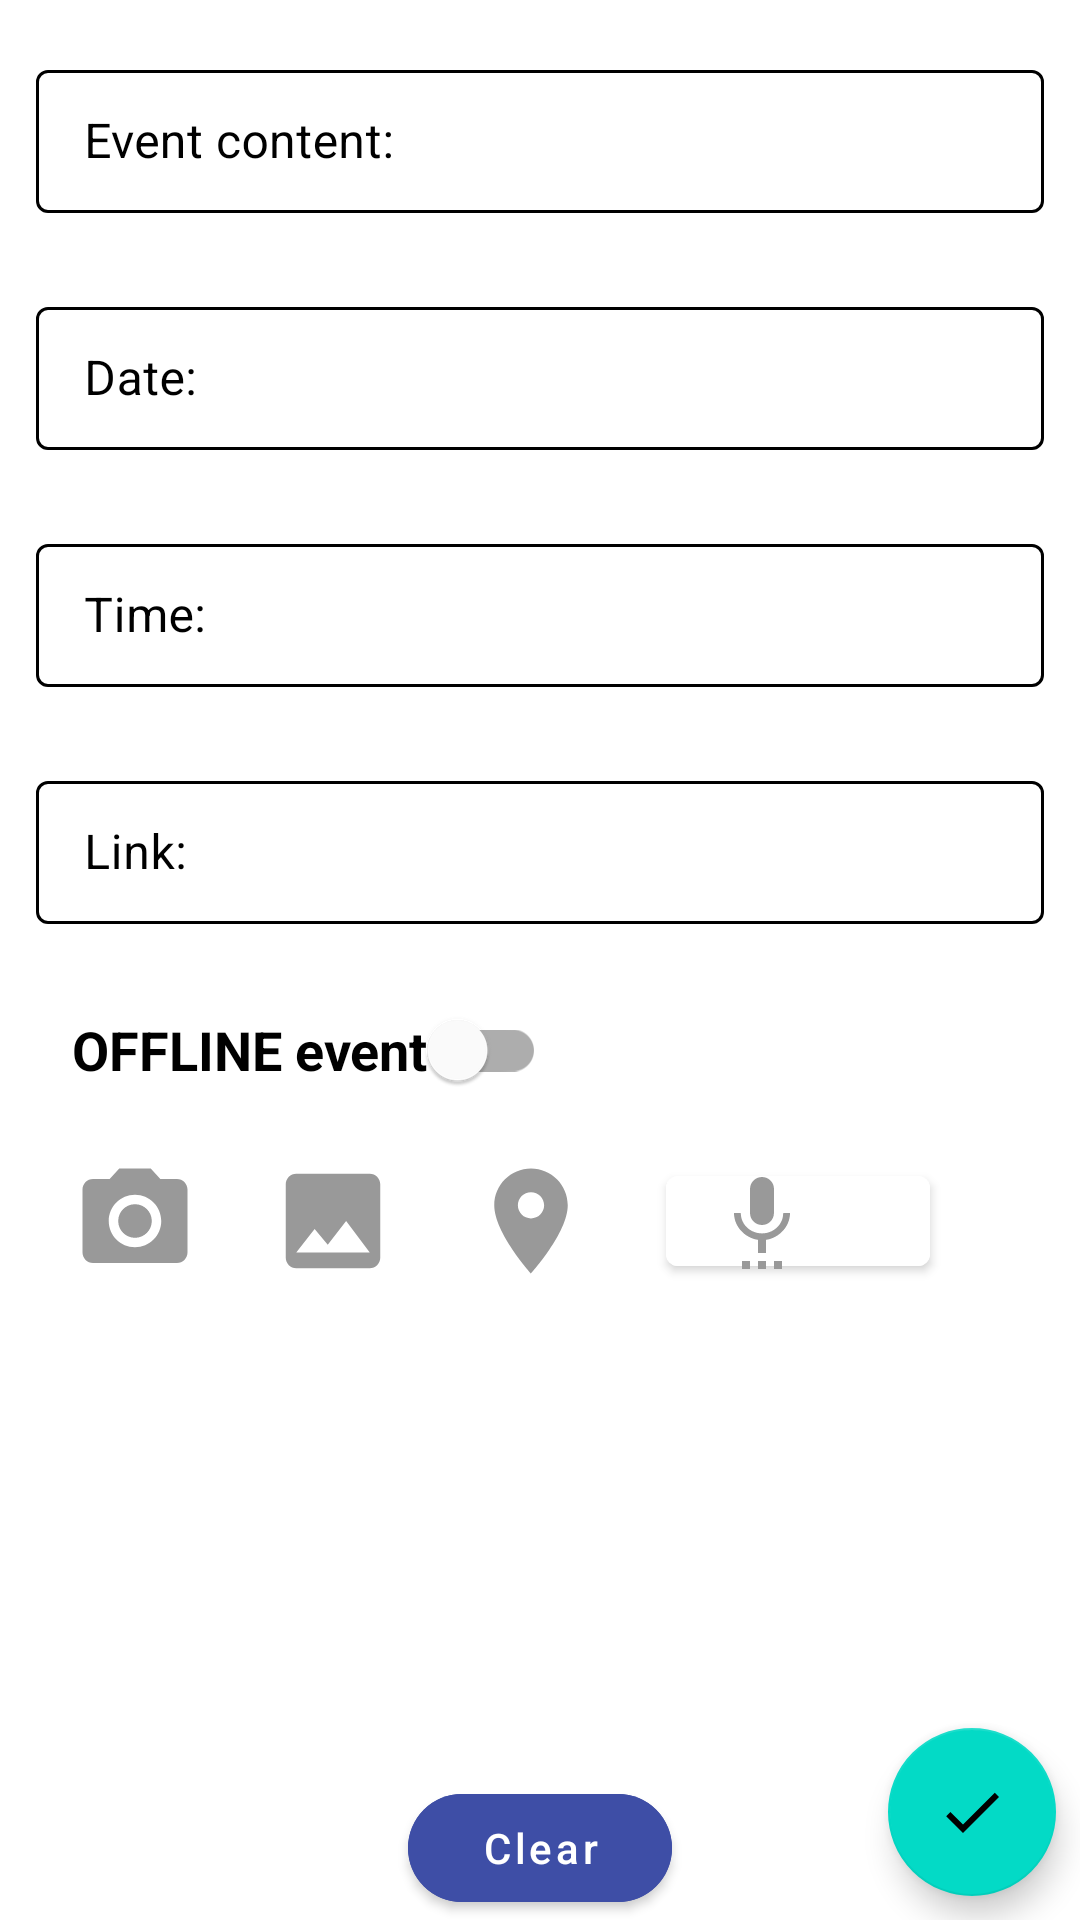

Point at icon controls on the screen. Image size 1080 x 1920, points as (x=x, y=y).
choose from gallery: (x=333, y=1221)
take photo: (x=135, y=1215)
